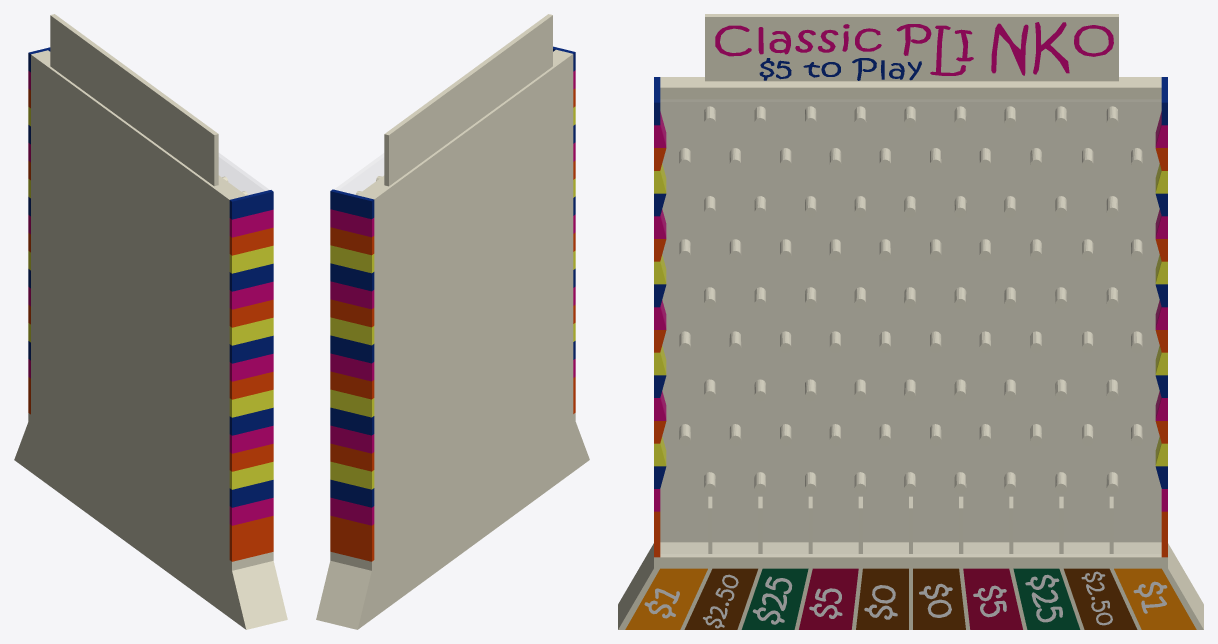
File: PLINKO Board.glb
The picture shows the model from 3 angles, left to right: view 1: azimuth 30°, elevation 25°; view 2: azimuth 150°, elevation 25°; view 3: azimuth 270°, elevation 25°; orthographic projection. The views are drawn at different scales.
Parts seen in each view (by area): view 1: Walls, Sign, Screen; view 2: Walls, Sign, Screen; view 3: Walls, Screen, Sign, Pegs, Text.002, Text.
Boxes of the visible parts, x1,y1,x2,y2 form: Walls: [14, 47, 287, 629]; Sign: [50, 14, 218, 186]; Screen: [219, 153, 268, 194]; Walls: [316, 46, 589, 629]; Sign: [384, 14, 552, 186]; Screen: [335, 154, 383, 193]; Walls: [618, 77, 1203, 629]; Screen: [661, 100, 1160, 555]; Sign: [705, 14, 1118, 81]; Pegs: [679, 106, 1142, 494]; Text.002: [715, 22, 1113, 80]; Text: [644, 571, 1167, 628].
Bounding box in the file's own units: 0.7456 × 7.94 × 7.12.
